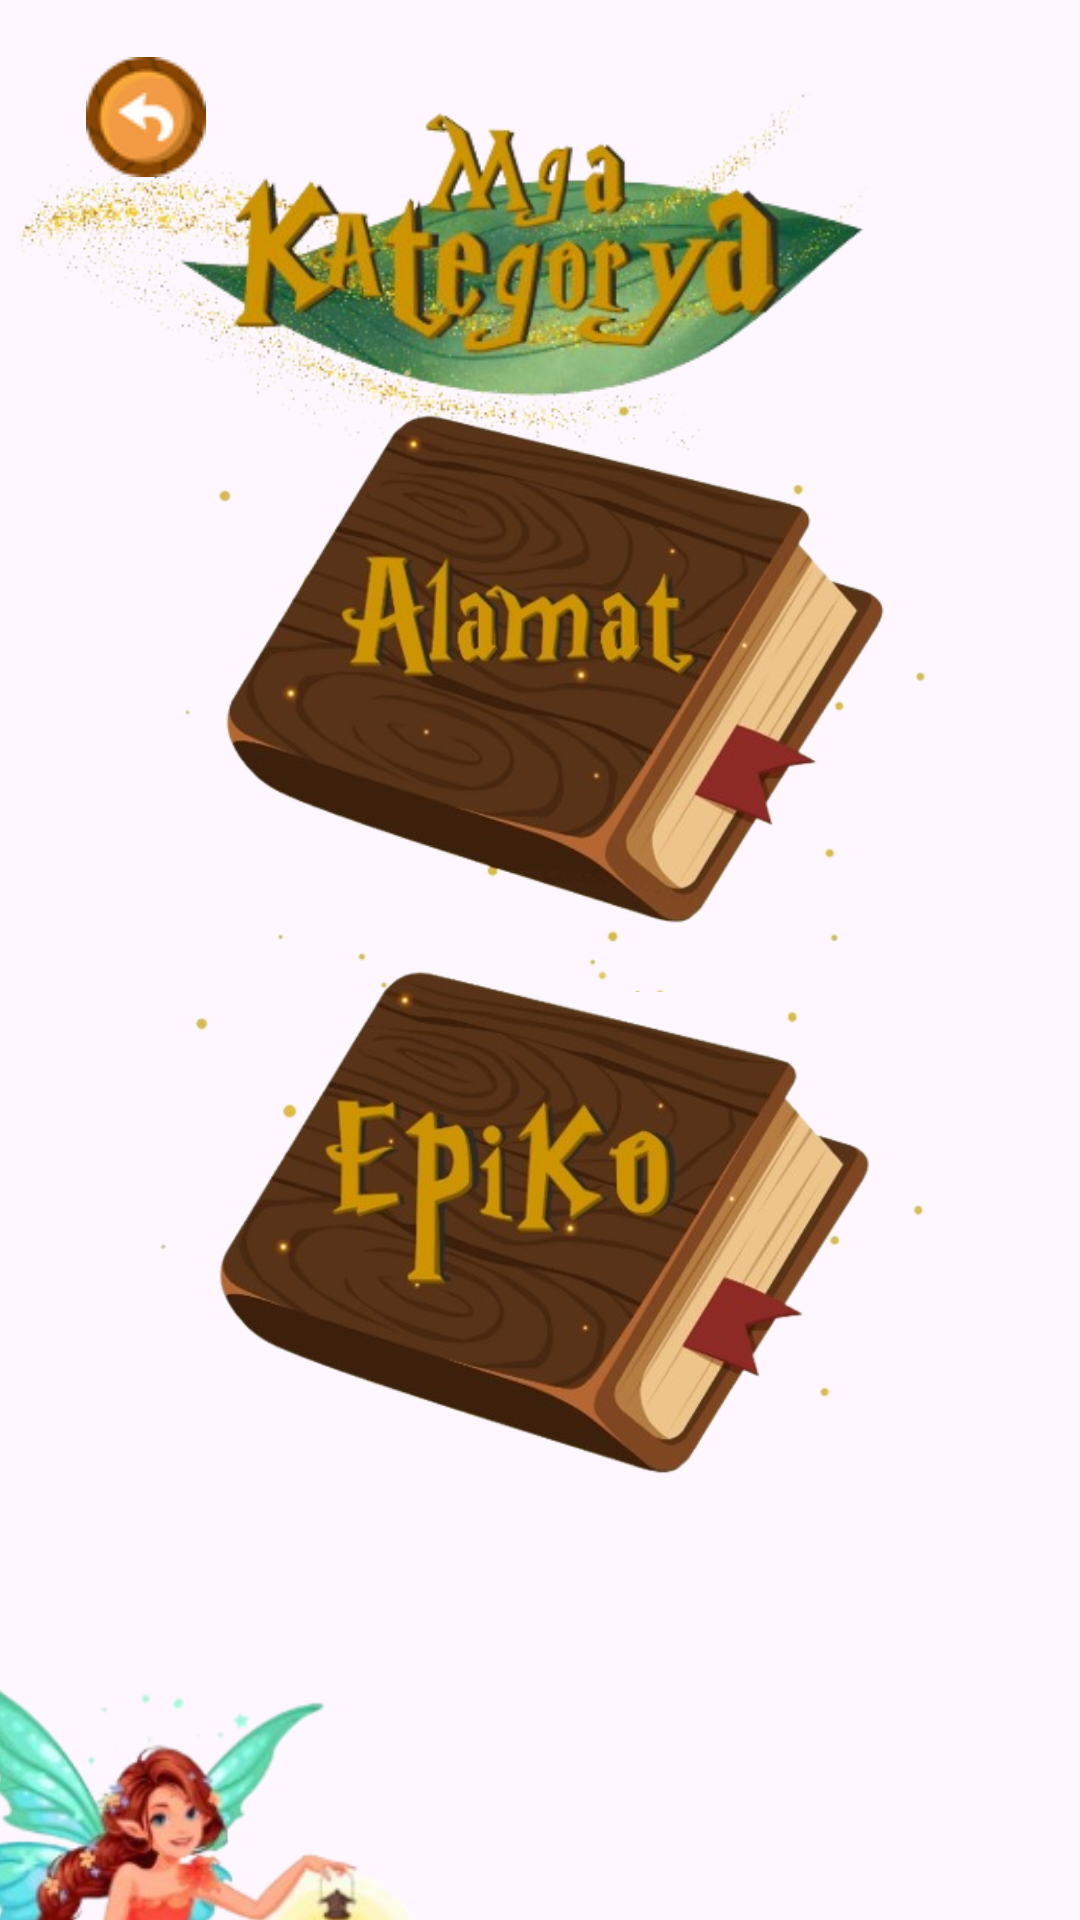

Named icons in this screenshot (1080 × 1920) and their bounding boxes, (x1=x1, y1=y1, x2=x2, y2=y2):
back: (x1=31, y1=57, x2=250, y2=222)
